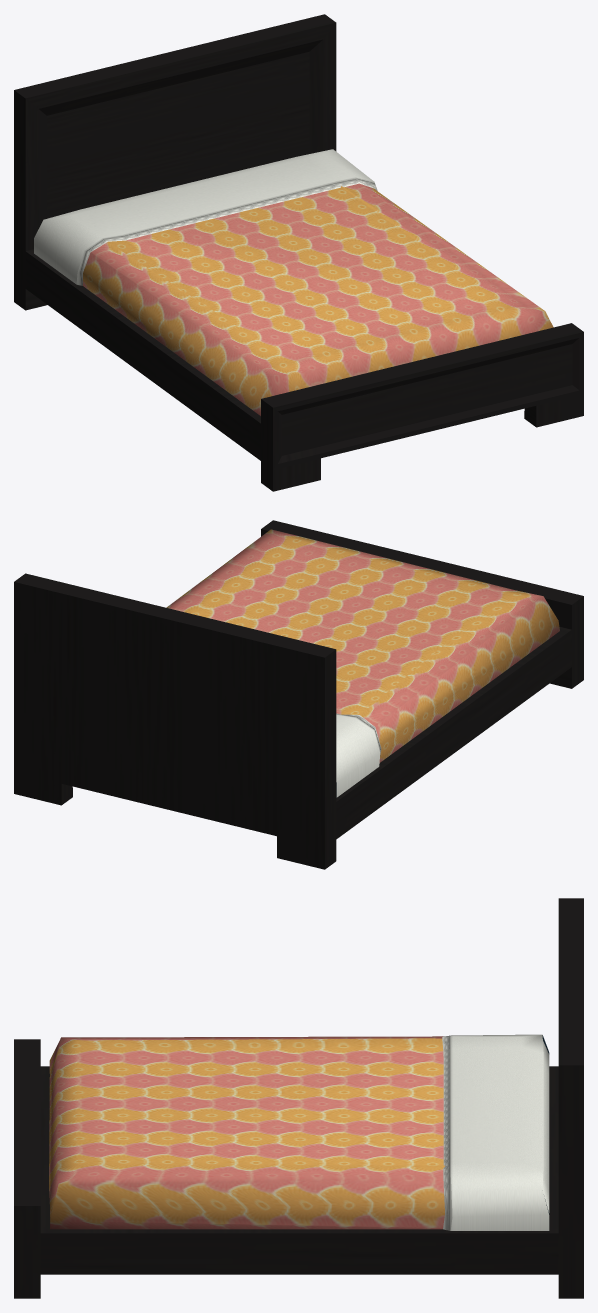
File: Bed_B_2.FBX
The picture shows the model from 3 angles, top to bottom: view 1: azimuth 30°, elevation 25°; view 2: azimuth 150°, elevation 25°; view 3: azimuth 270°, elevation 25°; orthographic projection. The views are drawn at different scales.
Visible parts, largest first — view 1: Bed; view 2: Bed; view 3: Bed.
Part boxes in pixels (bbox=[...]): Bed: bbox=[14, 14, 583, 491]; Bed: bbox=[14, 520, 583, 869]; Bed: bbox=[14, 898, 583, 1298].
Size of the model in its own units: 397 by 259 by 573.
